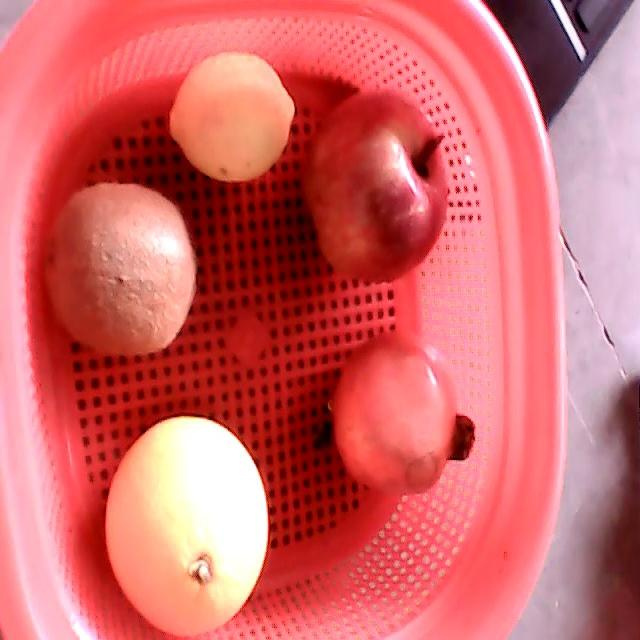apple: (299, 90, 450, 283)
kiwi: (39, 181, 196, 355)
lemon: (168, 51, 296, 184)
orange: (105, 416, 269, 637)
pomegranate: (330, 333, 476, 496)
